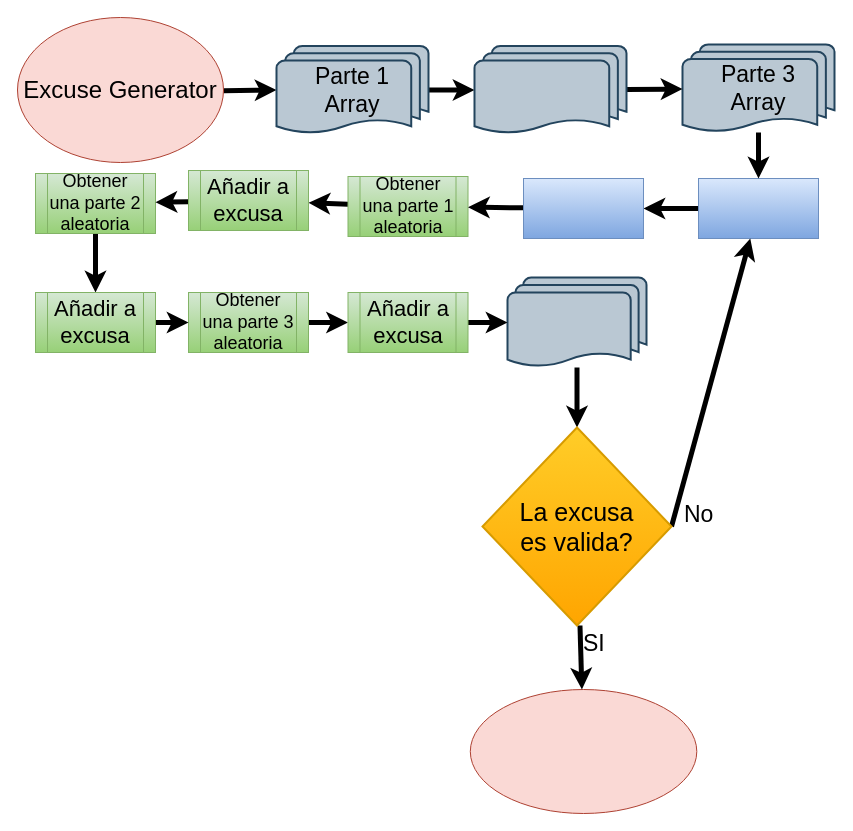
Some shapes in this 853 by 831 pixel diagram are drawn without their labels. Here are the shapes that lost their labels. From the top down, the centre of each, then its label:
At point (550, 89): "Parte 2 Array".
At point (583, 208): "Genera excusa vacia".
At point (758, 208): "Bonon Generar excusa".
At point (576, 322): "Excusa generada".
At point (583, 751): "Fin".
